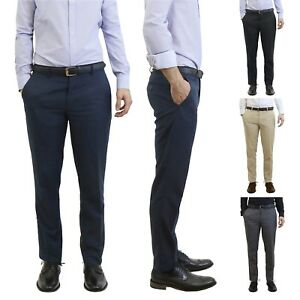F_belt: (32, 61, 110, 77), (173, 64, 208, 78), (243, 105, 277, 114), (244, 8, 275, 15), (244, 203, 277, 209)
F_dress pants: (21, 83, 121, 263), (143, 76, 194, 260), (240, 19, 279, 83), (242, 212, 278, 281)
F_shirt: (8, 1, 125, 98)
